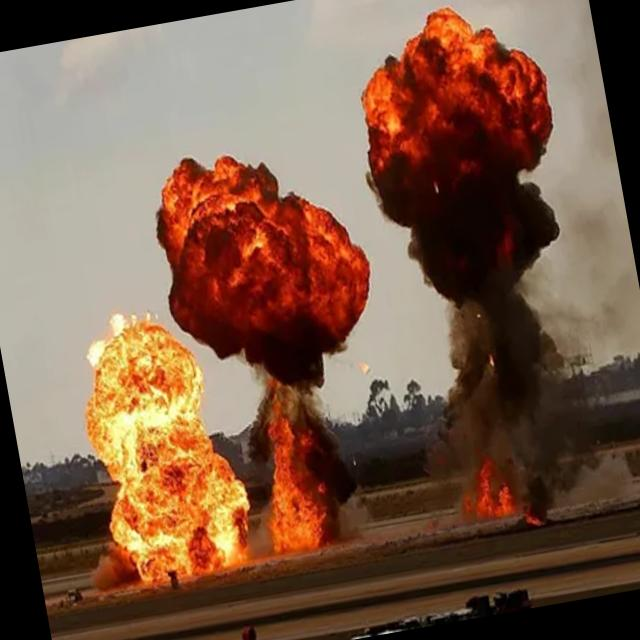Fire: (81, 302, 256, 586), (241, 382, 346, 560)
Smoke: (344, 0, 613, 543), (144, 130, 418, 568)
